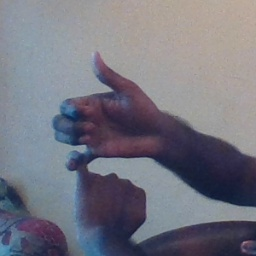S: (49, 47, 164, 234)
